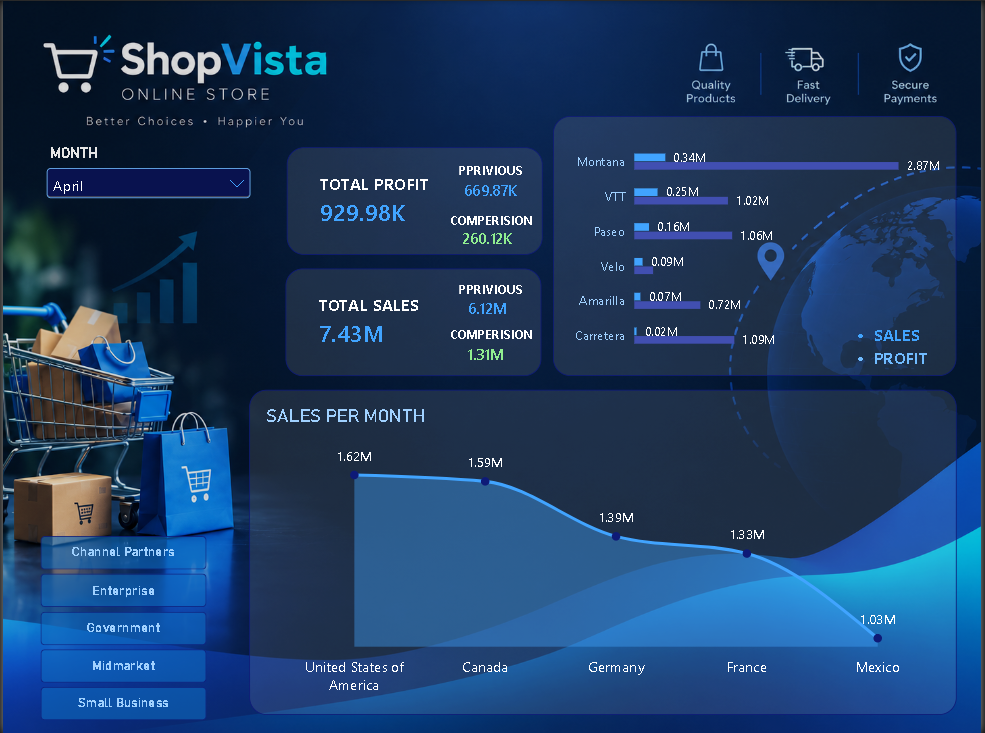

This screenshot's page, from the dashboard's own definition file:
{"tool":"powerbi","page":{"name":"Page 1","canvas":[960,720],"ordinal":0},"visuals":[{"type":"lineChart","title":"SALES PER MONTH ","fields":{"Category":["Sheet1.Country"],"Y":["Sum(Sheet1.Sales)"]},"box":[241.7,381.6,694.5,319],"z":0},{"type":"cardVisual","fields":{"Data":["Measure.TOTAL SALES"]},"box":[277.3,262.6,251.5,105.5],"z":1000},{"type":"clusteredBarChart","fields":{"Category":["Sheet1.Product"],"Y":["Sum(Sheet1.Profit)","Sum(Sheet1.Sales)"]},"box":[539.9,112.9,396.3,255.2],"z":2000},{"type":"cardVisual","fields":{"Data":["Measure.TOTAL PROFIT"]},"box":[278.5,143.6,251.5,105.5],"z":3000},{"type":"slicer","fields":{"Values":["Date table 1.Date.Variation.Date Hierarchy.Month"]},"box":[22.1,126.4,241.7,92],"z":4000},{"type":"cardVisual","fields":{"Data":["Measure.CD"]},"box":[439.3,294.5,89.6,105.5],"z":5000},{"type":"cardVisual","fields":{"Data":["Measure.PERVIOUS MONTH SALES"]},"box":[440.5,249.1,89.6,105.5],"z":6000},{"type":"textbox","box":[447.9,271.2,77.3,30.7],"z":7000},{"type":"textbox","box":[439.3,315.3,100.6,31.9],"z":8000},{"type":"textbox","box":[825.8,315.3,110.4,52.8],"z":9000},{"type":"cardVisual","fields":{"Data":["Measure.PERVIOUS MONTH PROFIT"]},"box":[436.8,155.8,104.3,58.9],"z":10000},{"type":"advancedSlicerVisual","fields":{"Values":["Sheet1.Segment"]},"box":[36.8,525.2,163.2,185.3],"z":11000},{"type":"textbox","box":[439.3,203.7,109.2,36.8],"z":12000},{"type":"textbox","box":[447.9,154.6,92,30.7],"z":13000},{"type":"cardVisual","fields":{"Data":["Measure.PROFIT COMPERISION"]},"box":[434.4,203.7,95.7,58.9],"z":14000}]}

Visuals, with their boxes in screenshot pixels (x1, y1, x2, y2), scaled from the page's 960x720 canvas onto the 985x733 screenshot:
"SALES PER MONTH " lineChart: [x1=248, y1=388, x2=961, y2=713]
cardVisual - Measure.TOTAL SALES: [x1=285, y1=267, x2=543, y2=375]
clusteredBarChart - Sheet1.Product x Sum(Sheet1.Profit): [x1=554, y1=115, x2=961, y2=375]
cardVisual - Measure.TOTAL PROFIT: [x1=286, y1=146, x2=544, y2=254]
slicer - Date table 1.Date.Variation.Date Hierarchy.Month: [x1=23, y1=129, x2=271, y2=222]
cardVisual - Measure.CD: [x1=451, y1=300, x2=543, y2=407]
cardVisual - Measure.PERVIOUS MONTH SALES: [x1=452, y1=254, x2=544, y2=361]
textbox: [x1=460, y1=276, x2=539, y2=307]
textbox: [x1=451, y1=321, x2=554, y2=353]
textbox: [x1=847, y1=321, x2=961, y2=375]
cardVisual - Measure.PERVIOUS MONTH PROFIT: [x1=448, y1=159, x2=555, y2=219]
advancedSlicerVisual - Sheet1.Segment: [x1=38, y1=535, x2=205, y2=723]
textbox: [x1=451, y1=207, x2=563, y2=245]
textbox: [x1=460, y1=157, x2=554, y2=189]
cardVisual - Measure.PROFIT COMPERISION: [x1=446, y1=207, x2=544, y2=267]
